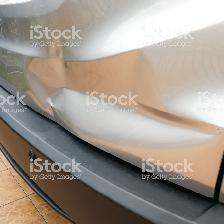door_dent: (11, 28, 199, 158)
